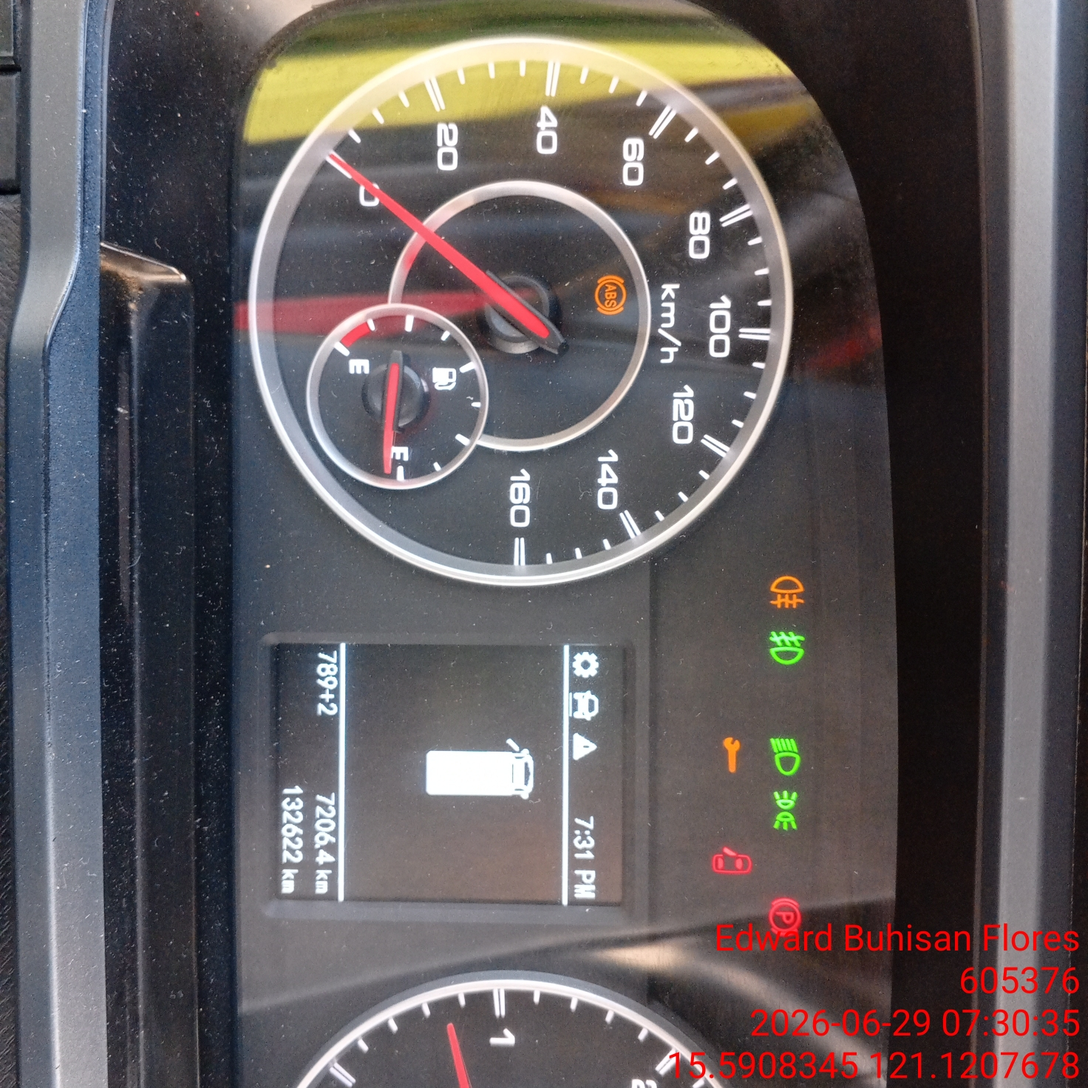pointer_pose: (207, 0, 400, 475)
